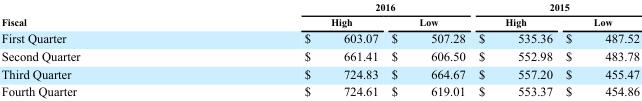table: (0, 1, 639, 98)
table column: (191, 1, 384, 98), (0, 1, 191, 98), (384, 1, 471, 98), (471, 1, 558, 98), (558, 1, 639, 98)
table column header: (0, 1, 639, 29)
table row: (0, 46, 639, 64), (0, 64, 639, 82), (0, 29, 639, 46), (0, 82, 639, 98), (0, 14, 639, 29), (0, 1, 639, 14)
table spanning cell: (0, 1, 191, 29), (191, 1, 471, 14), (471, 1, 639, 14)
